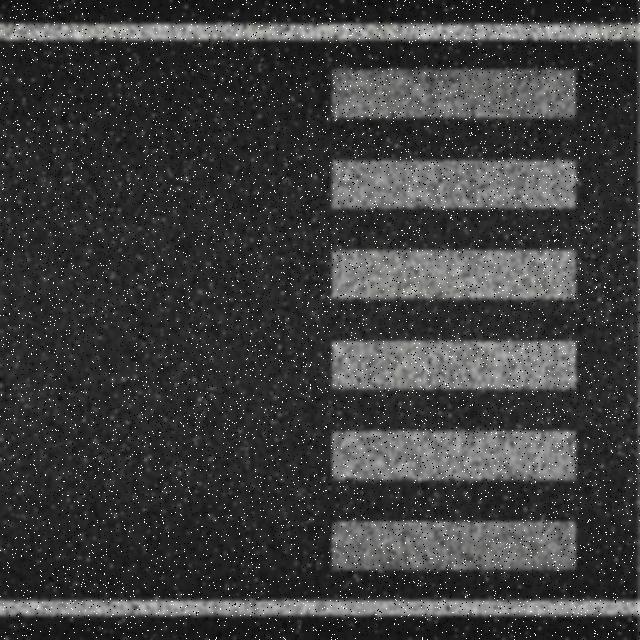crosswalk: (329, 65, 581, 577)
